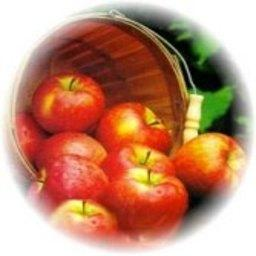apple: (108, 165, 187, 230), (170, 131, 244, 197), (31, 70, 104, 134), (96, 101, 173, 153), (38, 154, 107, 199), (35, 132, 106, 173), (104, 141, 174, 178)
